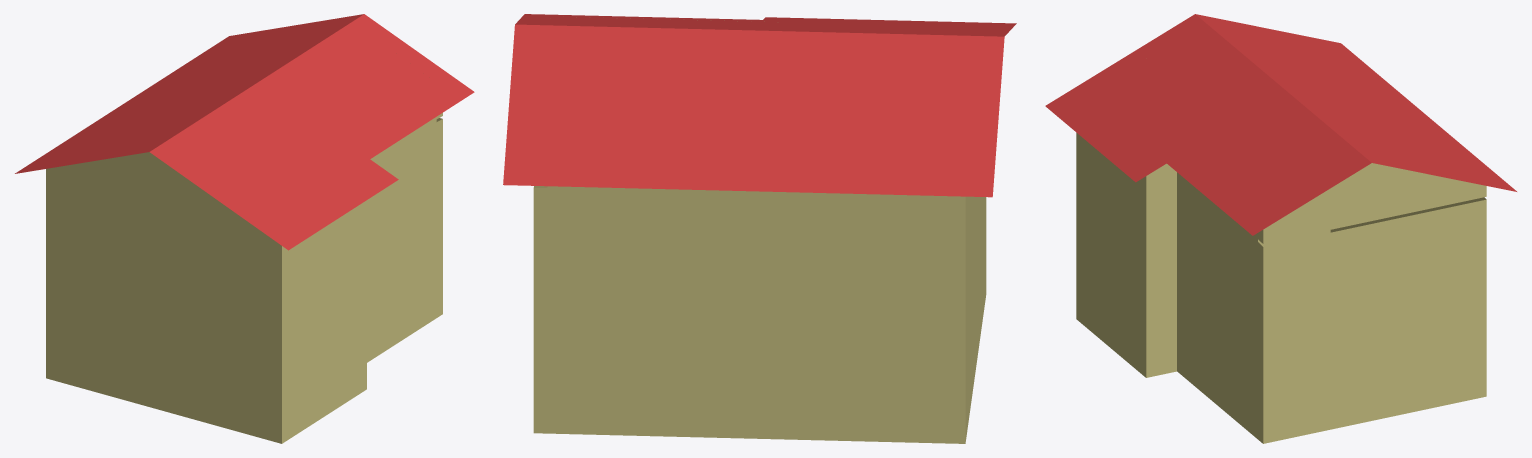
3 renders of one model, left to right at view 1: azimuth 30°, elevation 25°; view 2: azimuth 150°, elevation 25°; view 3: azimuth 270°, elevation 25°, orthographic. The views are drawn at different scales.
Bounding box in the file's own units: 15.63 × 15.22 × 9.55.
